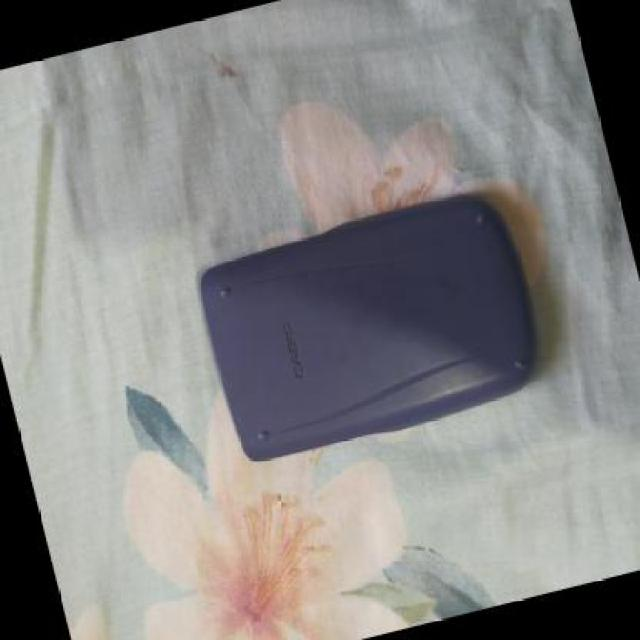Calculator: (175, 176, 563, 499)
